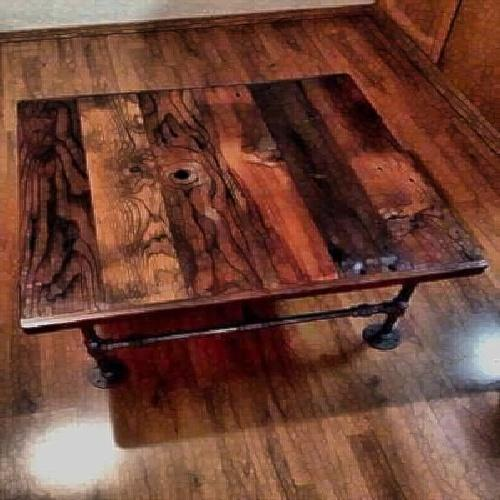table: (24, 76, 435, 358)
